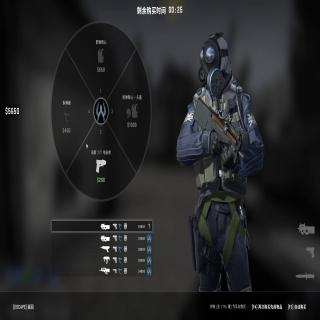CT-Head: (197, 31, 229, 96)
